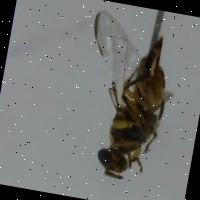Oriental-fruit-fly: (51, 8, 199, 195)
